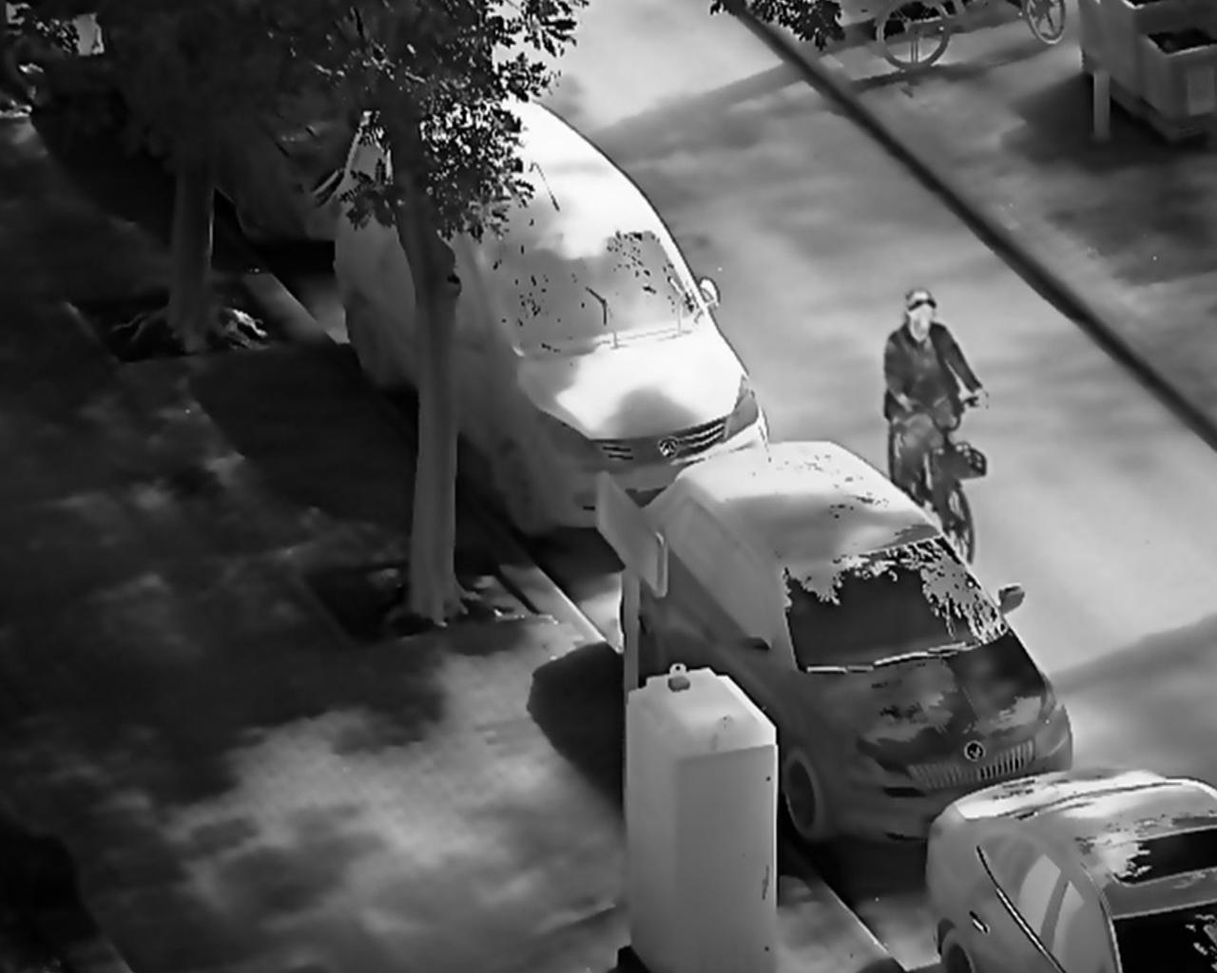person: (880, 286, 993, 503)
